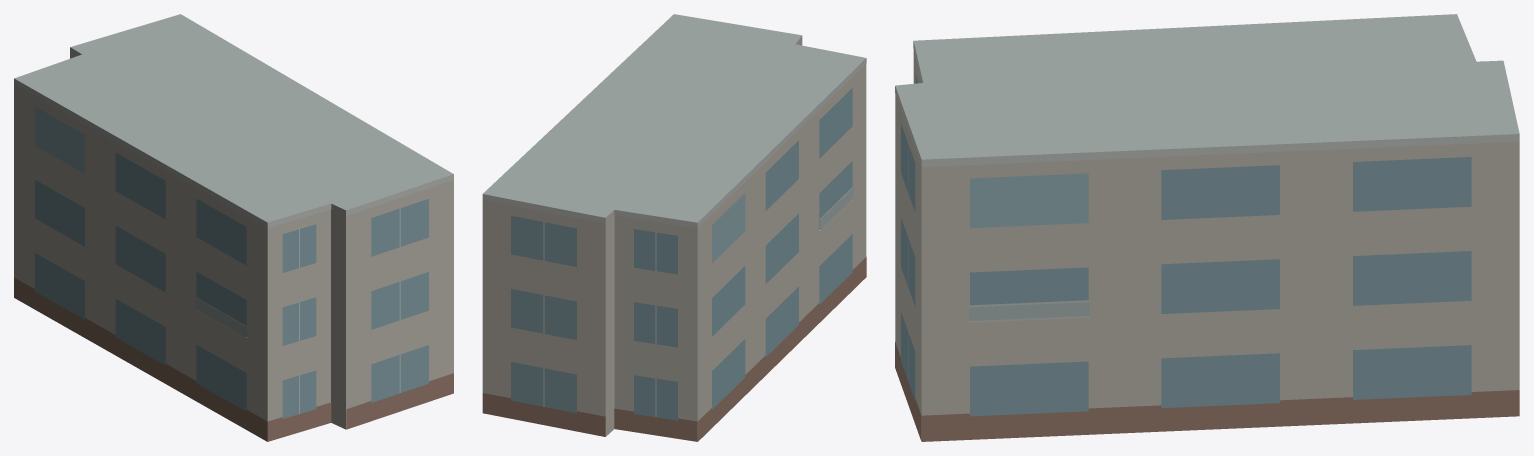
Rendered from survey-upis-32804926.glb.
3 renders of one model, left to right at view 1: azimuth 30°, elevation 25°; view 2: azimuth 150°, elevation 25°; view 3: azimuth 270°, elevation 25°, orthographic. The views are drawn at different scales.
Visible parts, largest first — view 1: survey-upis-32804926.tmp; view 2: survey-upis-32804926.tmp; view 3: survey-upis-32804926.tmp.
Boxes of the visible parts, <box> form: survey-upis-32804926.tmp: <box>14,14,453,441</box>; survey-upis-32804926.tmp: <box>482,14,866,441</box>; survey-upis-32804926.tmp: <box>895,14,1519,441</box>.
Bounding box in the file's own units: 10.13 × 9.15 × 18.36.
